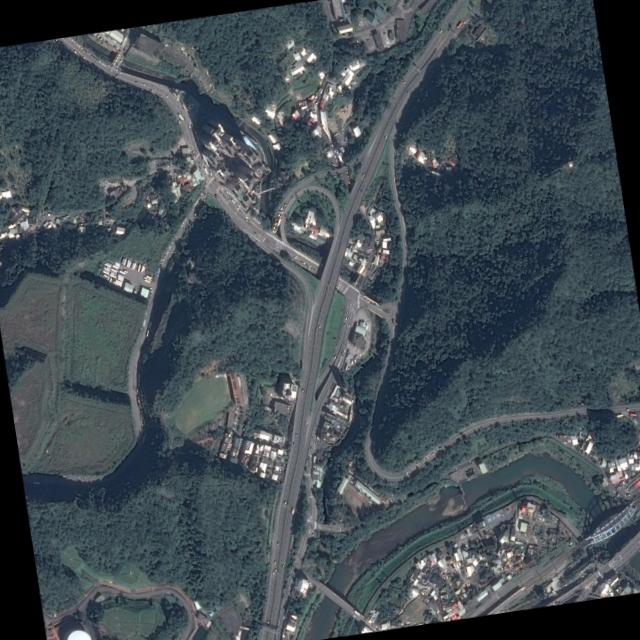storage-tank: (63, 626, 92, 640)
